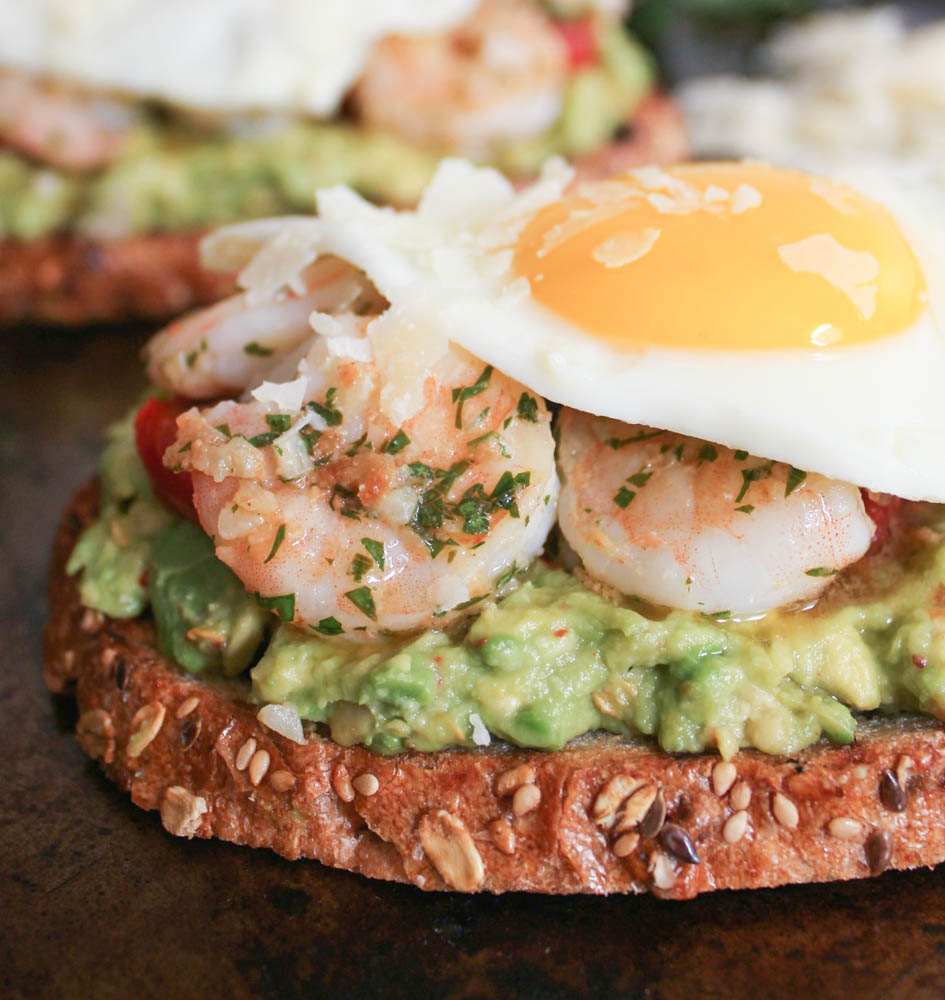fried egg: (433, 168, 945, 474)
slice of bread: (115, 696, 945, 894)
